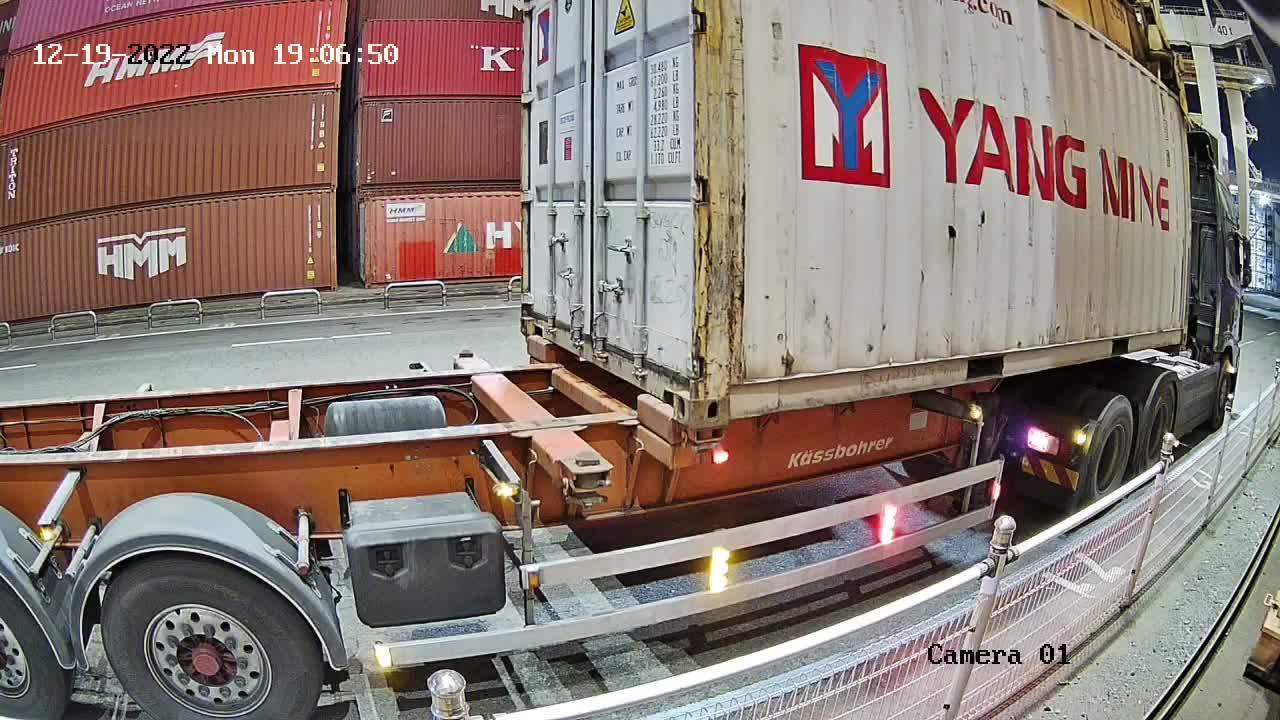Chassis: (526, 335, 691, 445)
Cone: (675, 427, 731, 457)
Hole_L: (694, 343, 765, 424), (521, 283, 553, 344)
Hole_R: (644, 335, 692, 426)
Tire: (1088, 399, 1133, 497), (1138, 384, 1176, 466)
